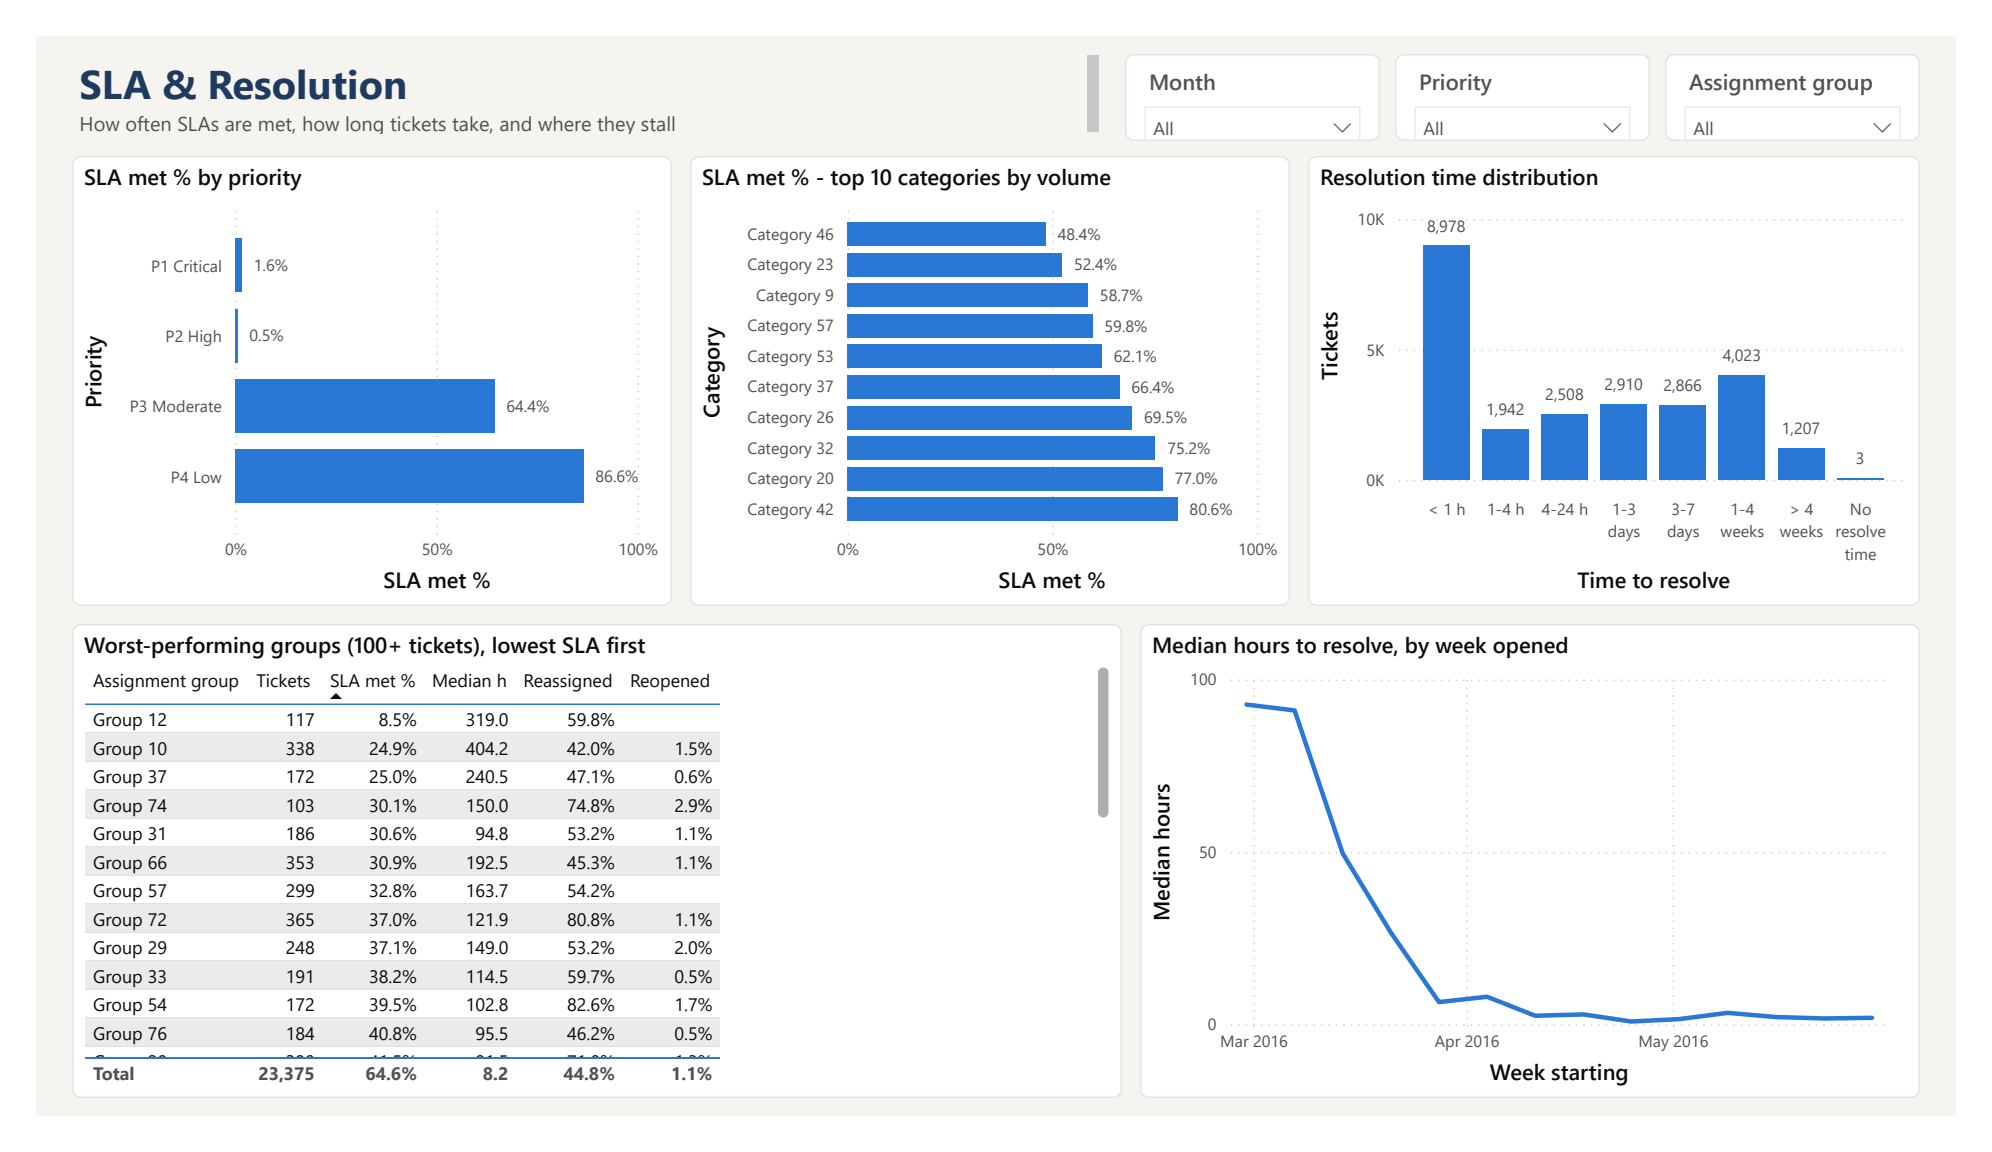

The dashboard page shown, as its layout file describes it:
{"tool":"powerbi","page":{"name":"SLA & Resolution","canvas":[1280,720],"ordinal":1},"visuals":[{"type":"textbox","box":[24,8,690,62],"z":1000},{"type":"slicer","fields":{"Values":["Date.month_name"]},"box":[726,12,170,58],"z":2000},{"type":"slicer","fields":{"Values":["Priority.priority_short"]},"box":[906,12,170,58],"z":3000},{"type":"slicer","fields":{"Values":["Assignment Group.assignment_group"]},"box":[1086,12,170,58],"z":4000},{"type":"clusteredBarChart","title":"SLA met % by priority","fields":{"Category":["Priority.priority_short"],"Y":["Metrics.SLA %"]},"box":[24,80,400,300],"z":5000},{"type":"clusteredBarChart","title":"SLA met % - top 10 categories by volume","fields":{"Category":["Category.category"],"Y":["Metrics.SLA %"]},"box":[436,80,400,300],"z":6000},{"type":"clusteredColumnChart","title":"Resolution time distribution","fields":{"Category":["Incident.resolution_bucket"],"Y":["Metrics.Tickets"]},"box":[848,80,408,300],"z":7000},{"type":"tableEx","title":"Worst-performing groups (100+ tickets), lowest SLA first","fields":{"Values":["Assignment Group.assignment_group","Metrics.Tickets","Metrics.SLA %","Metrics.Median Resolution (h)","Metrics.Reassignment Rate","Metrics.Reopen Rate"]},"box":[24,392,700,316],"z":8000},{"type":"lineChart","title":"Median hours to resolve, by week opened","fields":{"Category":["Date.week_start"],"Y":["Metrics.Median Resolution (h)"]},"box":[736,392,520,316],"z":9000}]}

Visuals, with their boxes in screenshot pixels (x1, y1, x2, y2), scaled from the page's 1280x720 canvas onto the 1992x1152 screenshot:
textbox: 37,13,1111,112
slicer - Date.month_name: 1130,19,1394,112
slicer - Priority.priority_short: 1410,19,1675,112
slicer - Assignment Group.assignment_group: 1690,19,1955,112
"SLA met % by priority" clusteredBarChart: 37,128,660,608
"SLA met % - top 10 categories by volume" clusteredBarChart: 679,128,1301,608
"Resolution time distribution" clusteredColumnChart: 1320,128,1955,608
"Worst-performing groups (100+ tickets), lowest SLA first" tableEx: 37,627,1127,1133
"Median hours to resolve, by week opened" lineChart: 1145,627,1955,1133
